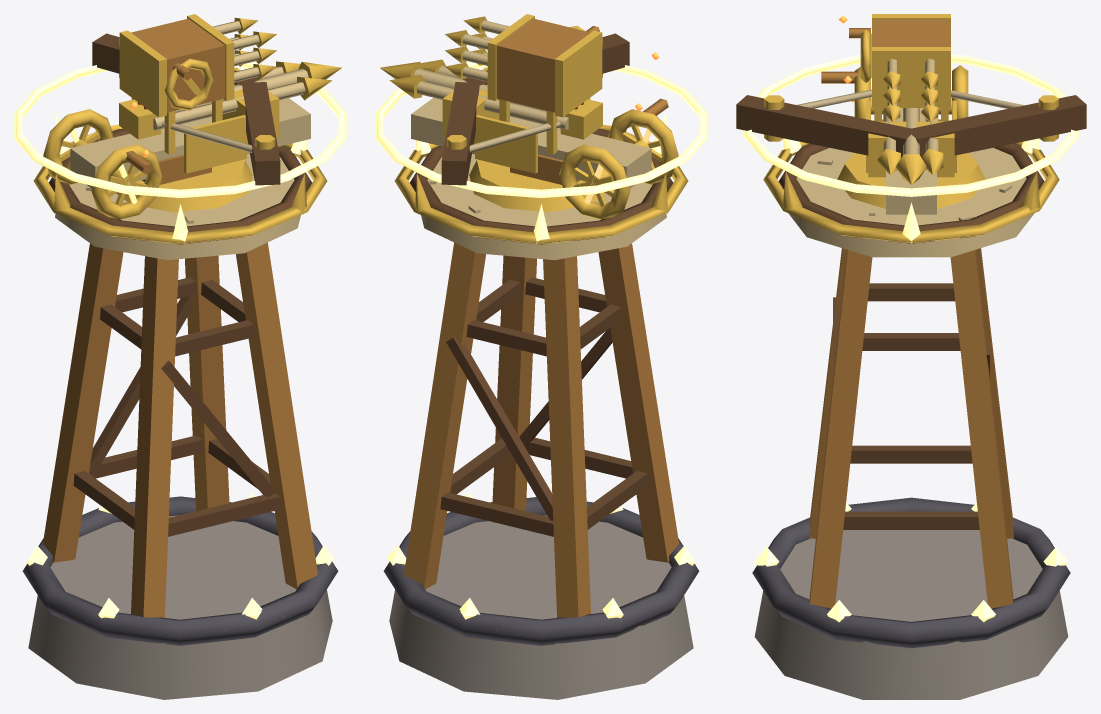
Rendered from tower_ballista_boltStorm_ultimate.glb.
3 views of the same model, side by side, from view 1: azimuth 30°, elevation 25°; view 2: azimuth 150°, elevation 25°; view 3: azimuth 270°, elevation 25° (orthographic).
Visible parts, largest first — view 1: base, leg_wn, leg_en, base_rim, leg_ws, deck, leg_es, ult_halo, ult_crown_band, magazine, stock, magazine_band_b (+25 smaller); view 2: base, leg_ws, leg_es, leg_wn, base_rim, deck, leg_en, magazine, ult_halo, ult_crown_band, stock, brace_b (+24 smaller); view 3: base, base_rim, leg_en, leg_es, deck, ult_halo, bow_arm_l, bow_arm_r, ult_crown_band, magazine_band_f, deck_rim, ring_e_0.21 (+14 smaller).
Part boxes in pixels (<box>): base: <box>28,515,332,699</box>; leg_wn: <box>131,256,178,617</box>; leg_en: <box>236,242,317,589</box>; base_rim: <box>22,496,338,645</box>; leg_ws: <box>43,243,123,562</box>; deck: <box>55,154,300,260</box>; leg_es: <box>185,255,229,511</box>; ult_halo: <box>14,62,346,197</box>; ult_crown_band: <box>33,124,327,243</box>; magazine: <box>131,18,225,112</box>; stock: <box>70,98,310,188</box>; magazine_band_b: <box>119,30,166,117</box>; base: <box>389,515,693,699</box>; leg_ws: <box>543,256,590,617</box>; leg_es: <box>404,242,485,589</box>; leg_wn: <box>598,243,678,562</box>; base_rim: <box>383,497,699,645</box>; deck: <box>421,154,666,260</box>; leg_en: <box>492,255,536,511</box>; magazine: <box>496,18,590,112</box>; ult_halo: <box>375,62,707,197</box>; ult_crown_band: <box>394,124,688,243</box>; stock: <box>411,97,651,188</box>; brace_b: <box>446,337,553,520</box>; base: <box>754,530,1068,699</box>; base_rim: <box>752,497,1070,648</box>; leg_en: <box>809,249,872,608</box>; leg_es: <box>950,249,1013,608</box>; deck: <box>788,147,1034,257</box>; ult_halo: <box>744,54,1078,196</box>; bow_arm_l: <box>736,95,916,157</box>; bow_arm_r: <box>907,95,1086,157</box>; ult_crown_band: <box>763,119,1059,243</box>; magazine_band_f: <box>872,47,950,107</box>; deck_rim: <box>778,144,1044,243</box>; ring_e_0.21: <box>843,511,979,529</box>.
Bounding box in the file's own units: 0.4575 × 0.848 × 0.4469.
